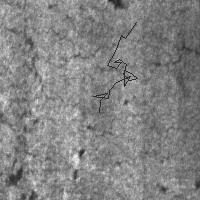crazing: (42, 24, 185, 71), (1, 12, 39, 160), (93, 22, 137, 112)
